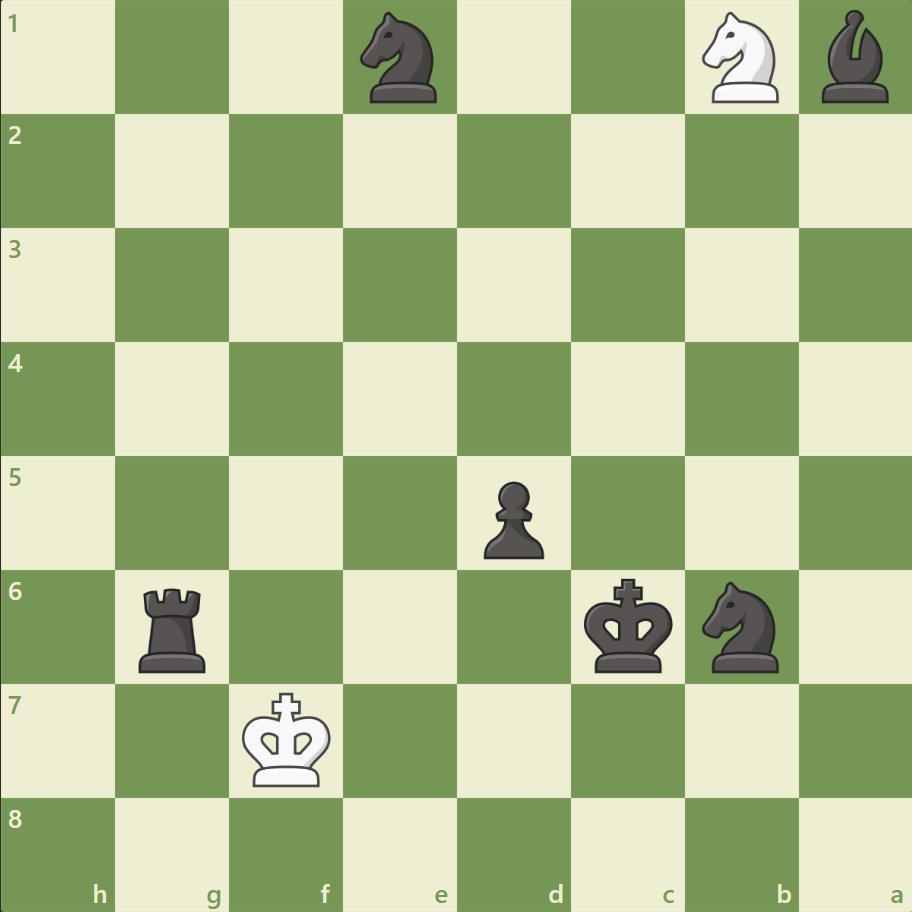K: (238, 685, 338, 793)
N: (692, 7, 789, 110)
b: (812, 6, 896, 109)
k: (579, 571, 679, 679)
n: (351, 7, 449, 110), (692, 575, 789, 677)
p: (474, 473, 549, 564)
r: (133, 579, 215, 676)
